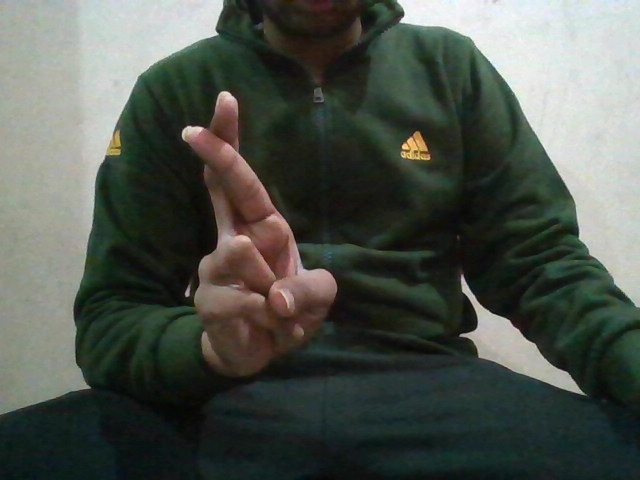R: (169, 105, 335, 363)
